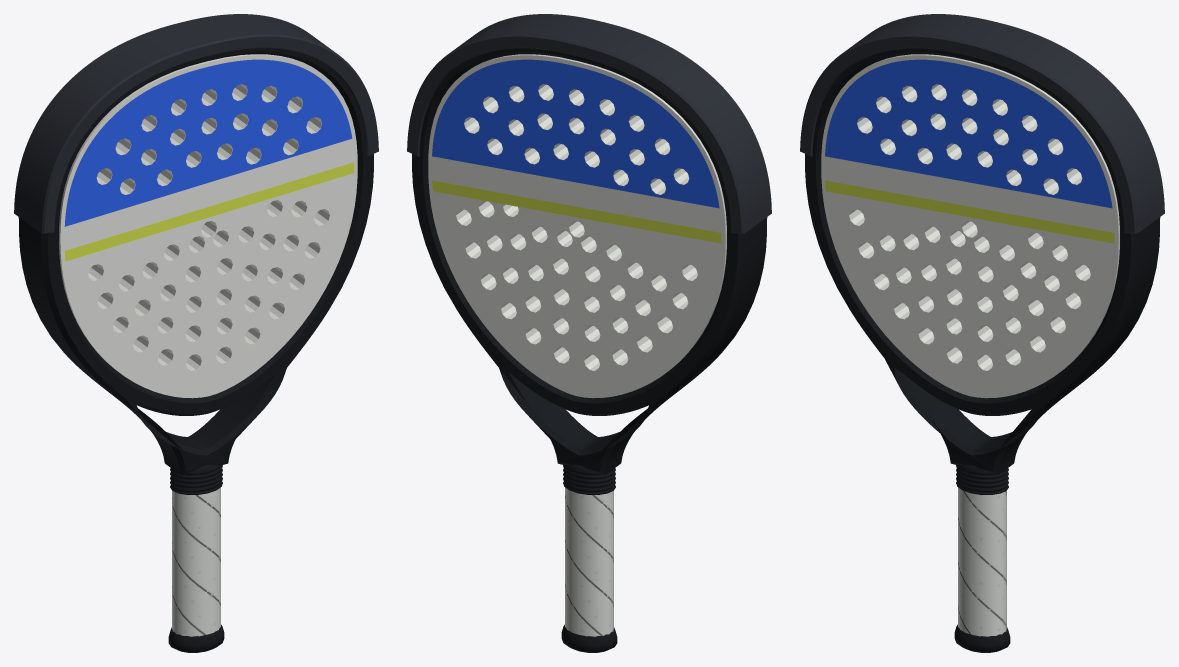
Rendered from nox-at10-luxury-genius-18k-alum.preview.glb.
3 views of the same model, side by side, from view 1: azimuth 30°, elevation 25°; view 2: azimuth 150°, elevation 25°; view 3: azimuth 330°, elevation 25° (orthographic).
Visible parts, largest first — view 1: part_face, part_print, part_frame, part_bumper, part_grip, part_collar, part_cap; view 2: part_face, part_print, part_frame, part_bumper, part_grip, part_collar, part_cap; view 3: part_face, part_print, part_frame, part_bumper, part_grip, part_collar, part_cap.
Boxes of the visible parts, <box> form: part_face: <box>59,54,357,398</box>; part_print: <box>64,59,354,261</box>; part_frame: <box>18,48,373,474</box>; part_bumper: <box>14,14,378,233</box>; part_grip: <box>172,487,220,636</box>; part_collar: <box>170,464,222,494</box>; part_cap: <box>168,624,224,652</box>; part_face: <box>428,54,726,398</box>; part_print: <box>432,59,721,243</box>; part_frame: <box>412,48,767,474</box>; part_bumper: <box>407,14,771,233</box>; part_grip: <box>565,487,613,636</box>; part_collar: <box>563,464,615,494</box>; part_cap: <box>561,624,617,652</box>; part_face: <box>821,54,1119,398</box>; part_print: <box>825,59,1114,243</box>; part_frame: <box>805,48,1160,474</box>; part_bumper: <box>800,14,1164,233</box>; part_grip: <box>958,487,1006,636</box>; part_collar: <box>956,464,1008,494</box>; part_cap: <box>954,624,1010,652</box>.
Bounding box in the file's own units: 0.2631 × 0.4566 × 0.0404.
10 materials, 1 textured.
